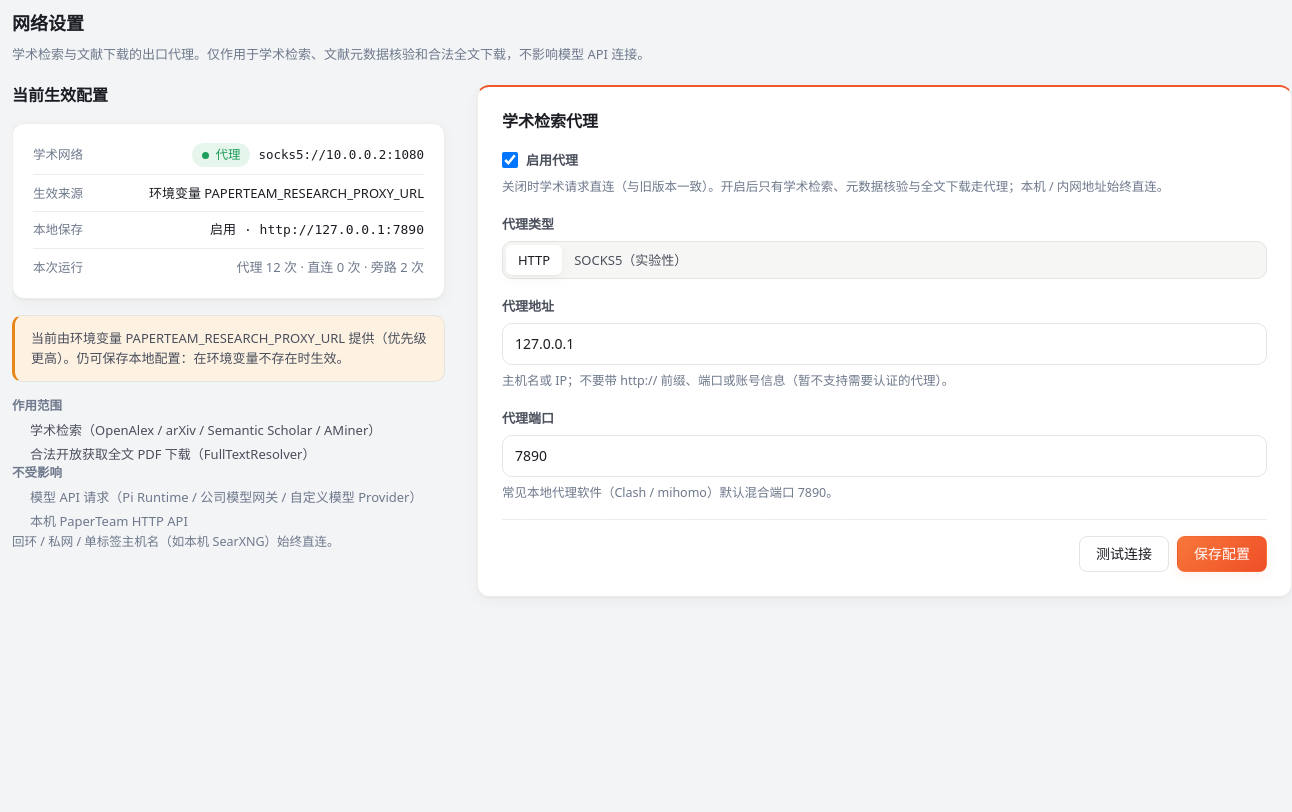
Scenario: NetworkSettingsPage › env 覆盖：显示提示；保存成功提示说明环境变量优先
The width and height of the screenshot is (1292, 812).
Check: the form with test id "network-form" is shown, box [477,86,1291,597]
Check: the message "当前由环境变量 PAPERTEAM_RESEARCH_PROXY_URL 提供（优先级更高）。仍可保存本地配置：在环境变量不存在时生效。" is shown, box [12,315,445,382]
What coordinates should you click on to do the following:
click the button with test id "network-save"
I would click on:
 (1222, 554)
Its box is [1177,536,1267,572].
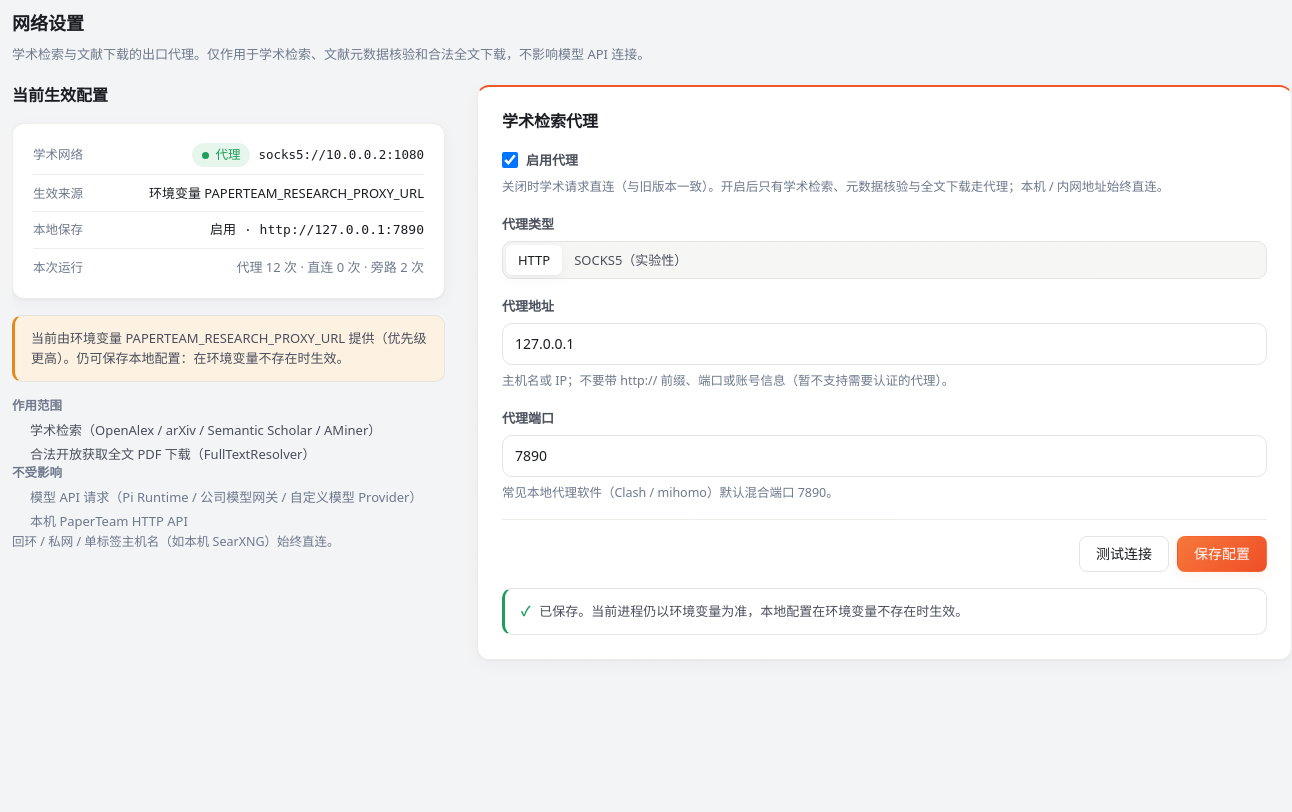
Check: the message "✓ 已保存。当前进程仍以环境变量为准，本地配置在环境变量不存在时生效。" is shown, box [502,588,1267,635]
Check: the message with test id "network-save-success" shows "环境变量为准", box [578,602,955,620]
